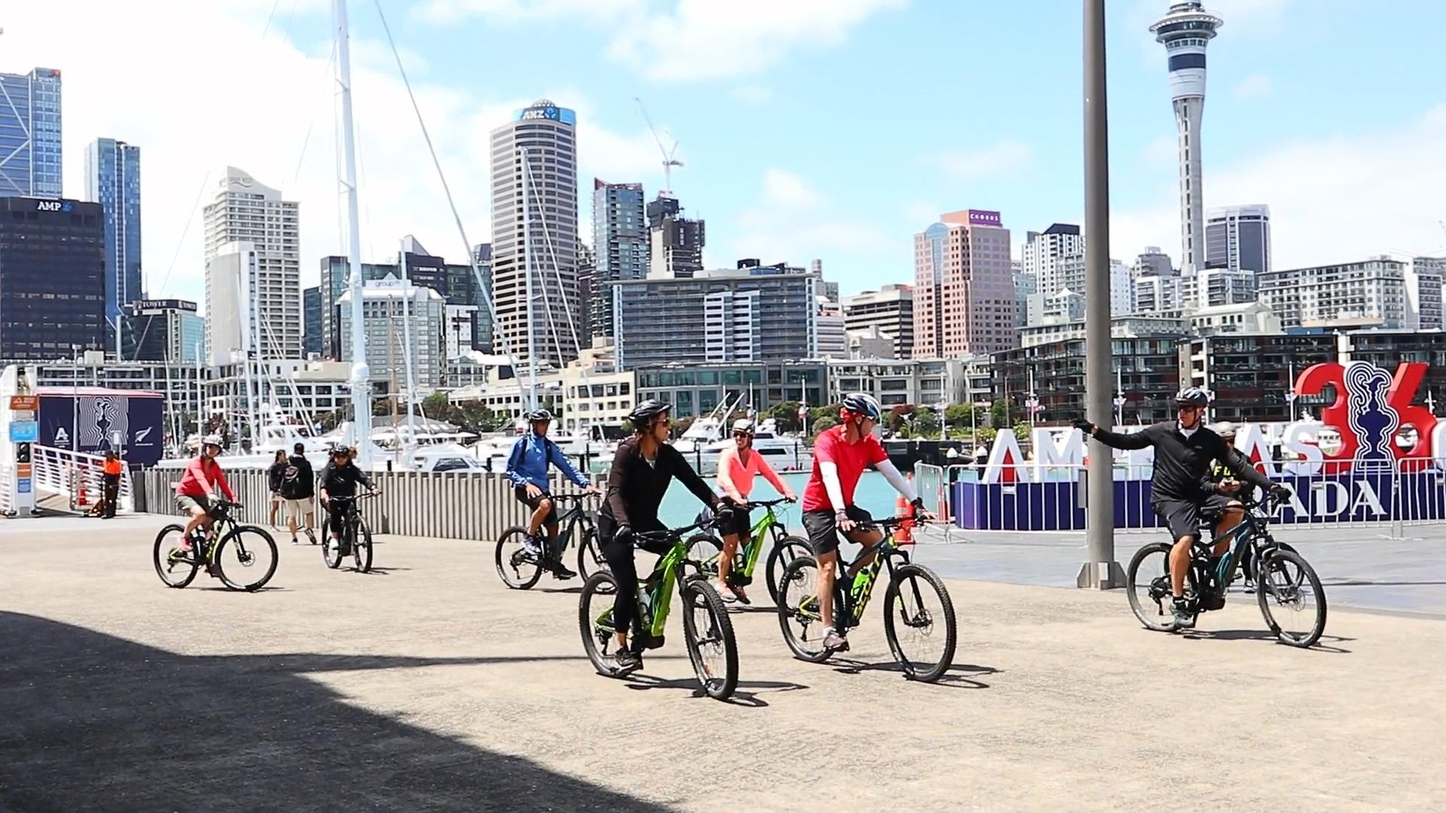bicyclist: (1068, 386, 1328, 648), (777, 391, 957, 682), (579, 398, 739, 699), (685, 419, 817, 616), (495, 409, 618, 595), (152, 434, 279, 593), (320, 445, 383, 574)
helmet: (628, 398, 674, 444), (839, 391, 880, 440), (1175, 386, 1208, 430), (732, 419, 756, 452), (529, 409, 553, 437), (203, 434, 224, 459)
